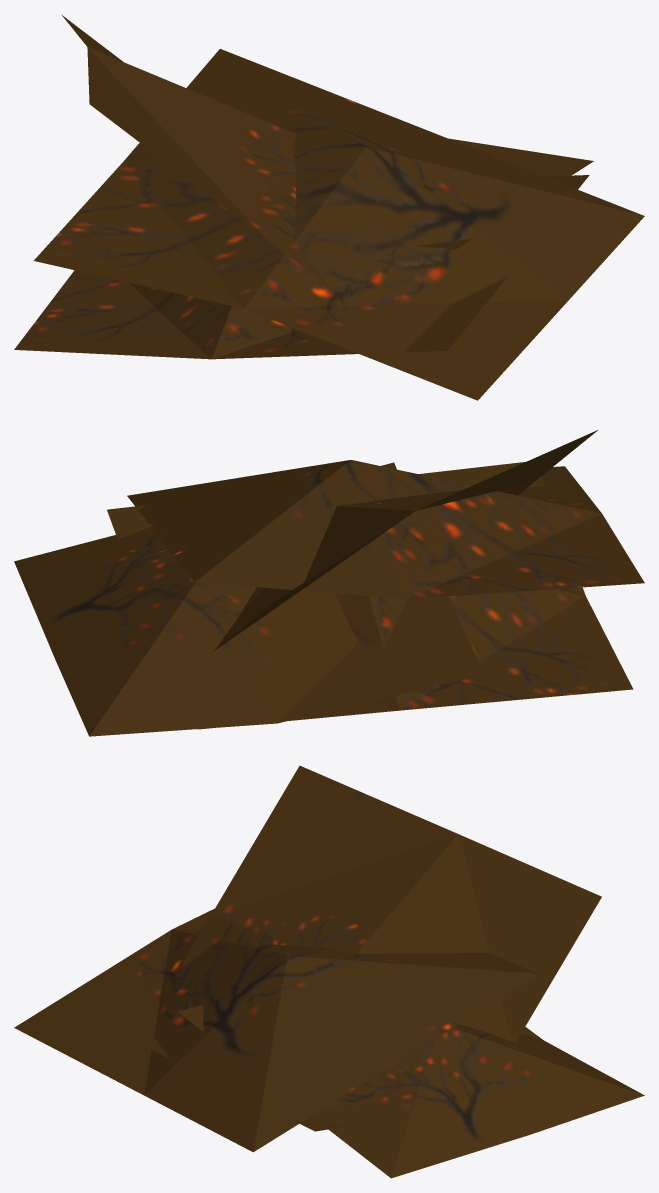
Rendered from Map03P_02.FBX.
3 views of the same model, one above another, from view 1: azimuth 30°, elevation 25°; view 2: azimuth 150°, elevation 25°; view 3: azimuth 270°, elevation 25° (orthographic). The views are drawn at different scales.
Parts seen in each view (by area): view 1: Map03P_02; view 2: Map03P_02; view 3: Map03P_02.
Part boxes in pixels (x1,y1,x2,y2): Map03P_02: (14, 15, 644, 400); Map03P_02: (14, 430, 644, 736); Map03P_02: (14, 765, 644, 1178).
Bounding box in the file's own units: 17.43 × 19.02 × 6.72.
